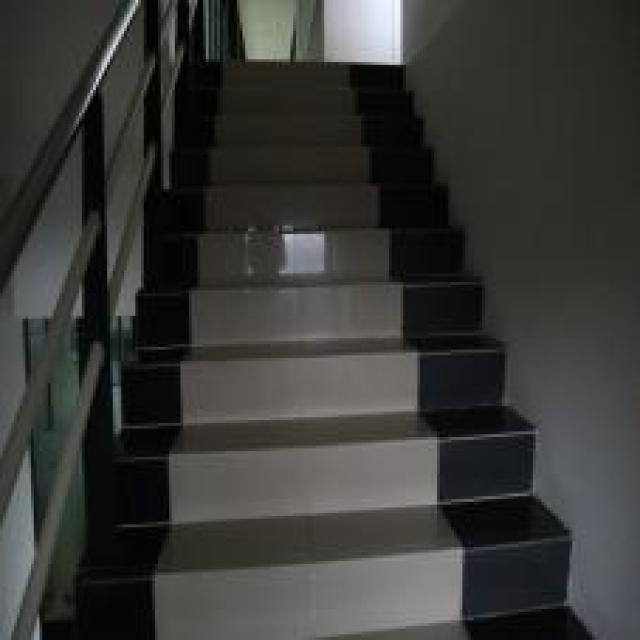upstair: (179, 154, 432, 557)
